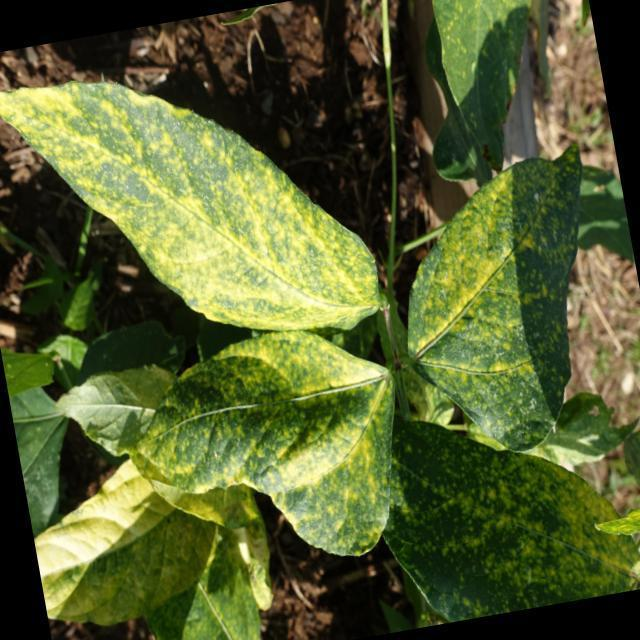Mosaic Virus: (0, 46, 368, 386), (390, 153, 634, 461), (124, 327, 414, 582), (361, 412, 640, 628)
